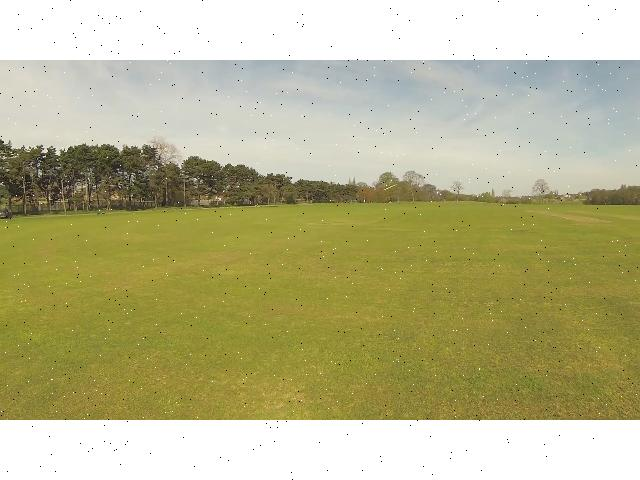Anti-Drone: (374, 173, 404, 195)
